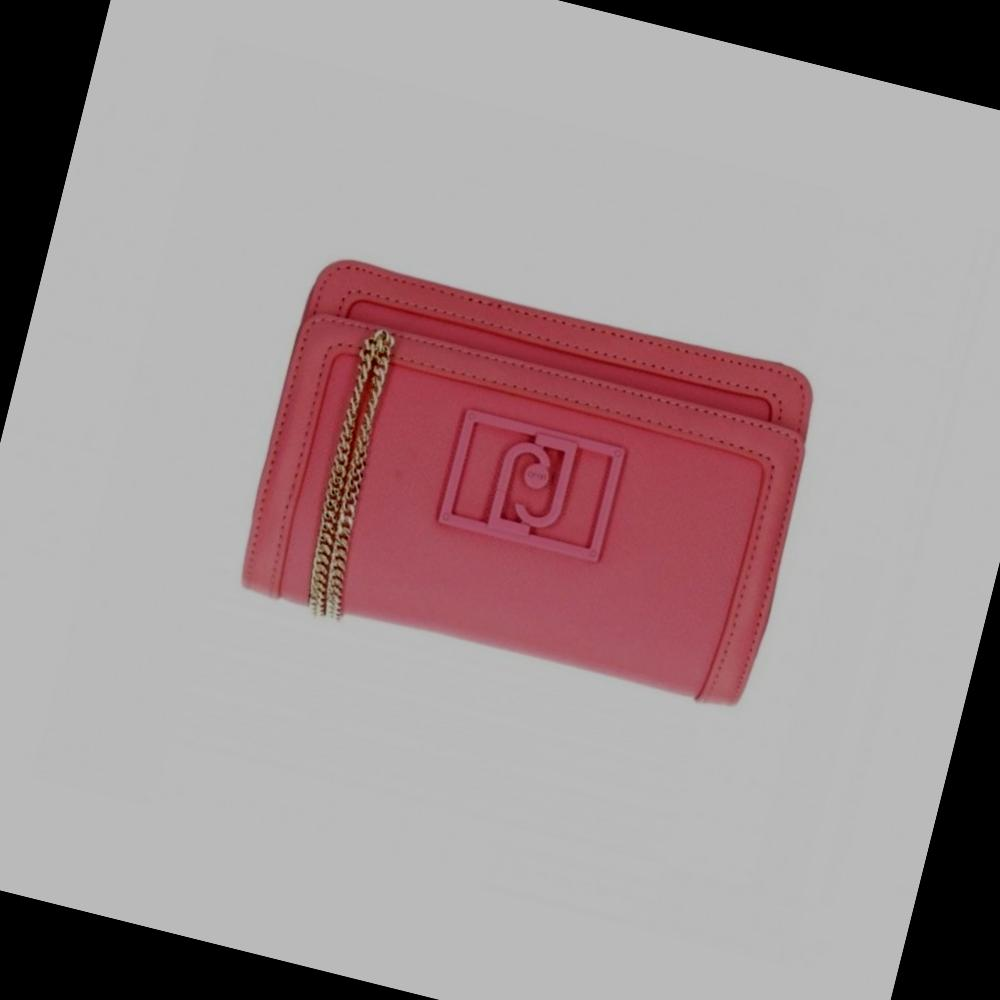LIU-JO: (485, 425, 579, 543)
